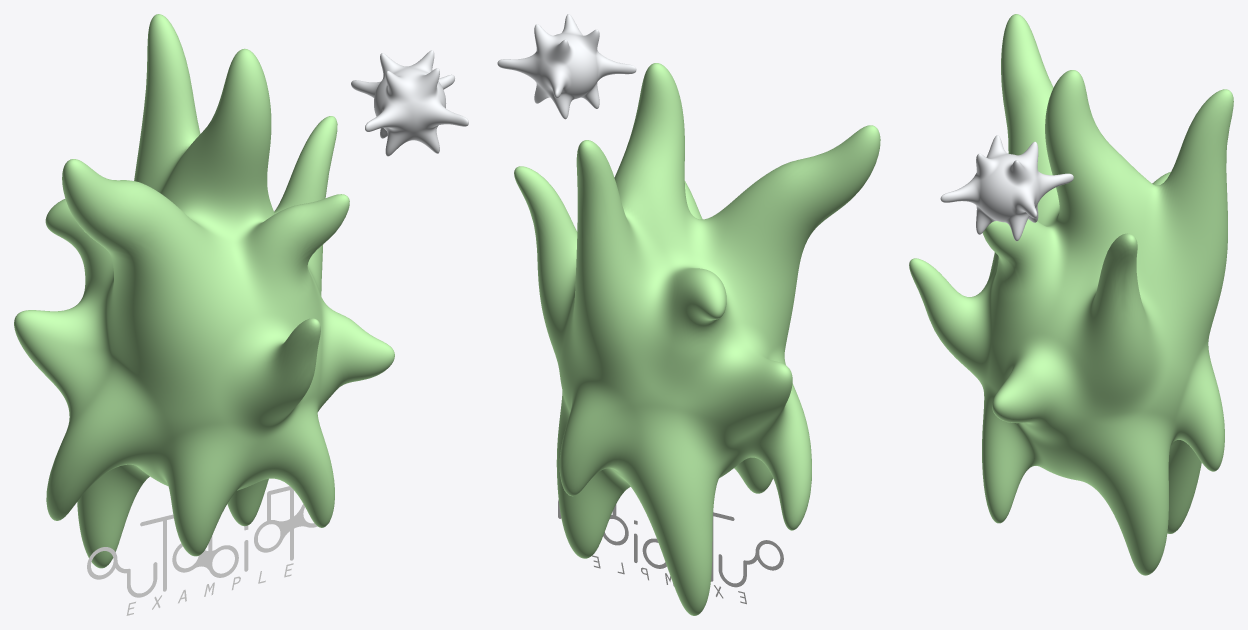
The model's file is example-2-large-ar.glb.
3 views of the same model, side by side, from view 1: azimuth 30°, elevation 25°; view 2: azimuth 150°, elevation 25°; view 3: azimuth 270°, elevation 25° (orthographic). The views are drawn at different scales.
Parts seen in each view (by area): view 1: Icosphere, Icosphere.002, Curve.004; view 2: Icosphere, Icosphere.002, Curve.004; view 3: Icosphere, Icosphere.002.
Part boxes in pixels (x1,y1,x2,y2): Icosphere: (14, 14, 394, 568); Icosphere.002: (351, 50, 468, 156); Curve.004: (87, 486, 329, 615); Icosphere: (514, 63, 880, 615); Icosphere.002: (497, 14, 636, 119); Curve.004: (558, 500, 783, 604); Icosphere: (909, 14, 1233, 575); Icosphere.002: (940, 135, 1073, 241).
Bounding box in the file's own units: 1.92 × 2.51 × 1.42.
